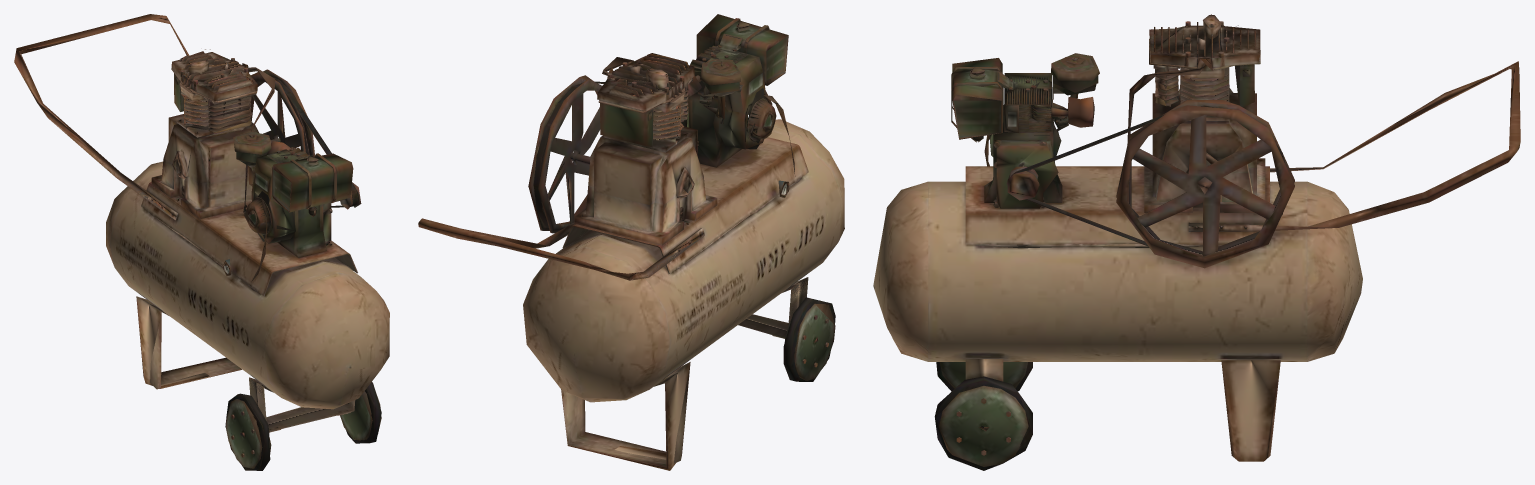
Rendered from compressor.glb.
The picture shows the model from 3 angles, left to right: view 1: azimuth 30°, elevation 25°; view 2: azimuth 150°, elevation 25°; view 3: azimuth 270°, elevation 25°; orthographic projection. The views are drawn at different scales.
Parts seen in each view (by area): view 1: old_military_compressor; view 2: old_military_compressor; view 3: old_military_compressor.
Boxes of the visible parts, x1,y1,x2,y2 form: old_military_compressor: (14,14,389,470); old_military_compressor: (418,14,844,470); old_military_compressor: (873,14,1520,470).
Bounding box in the file's own units: 0.5856 × 1.17 × 1.67.
2 materials, 2 textured.
